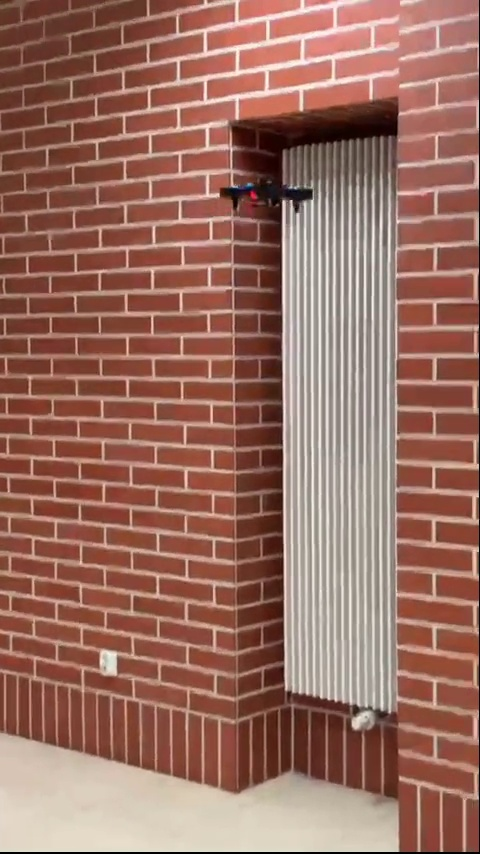drone: (215, 176, 310, 214)
